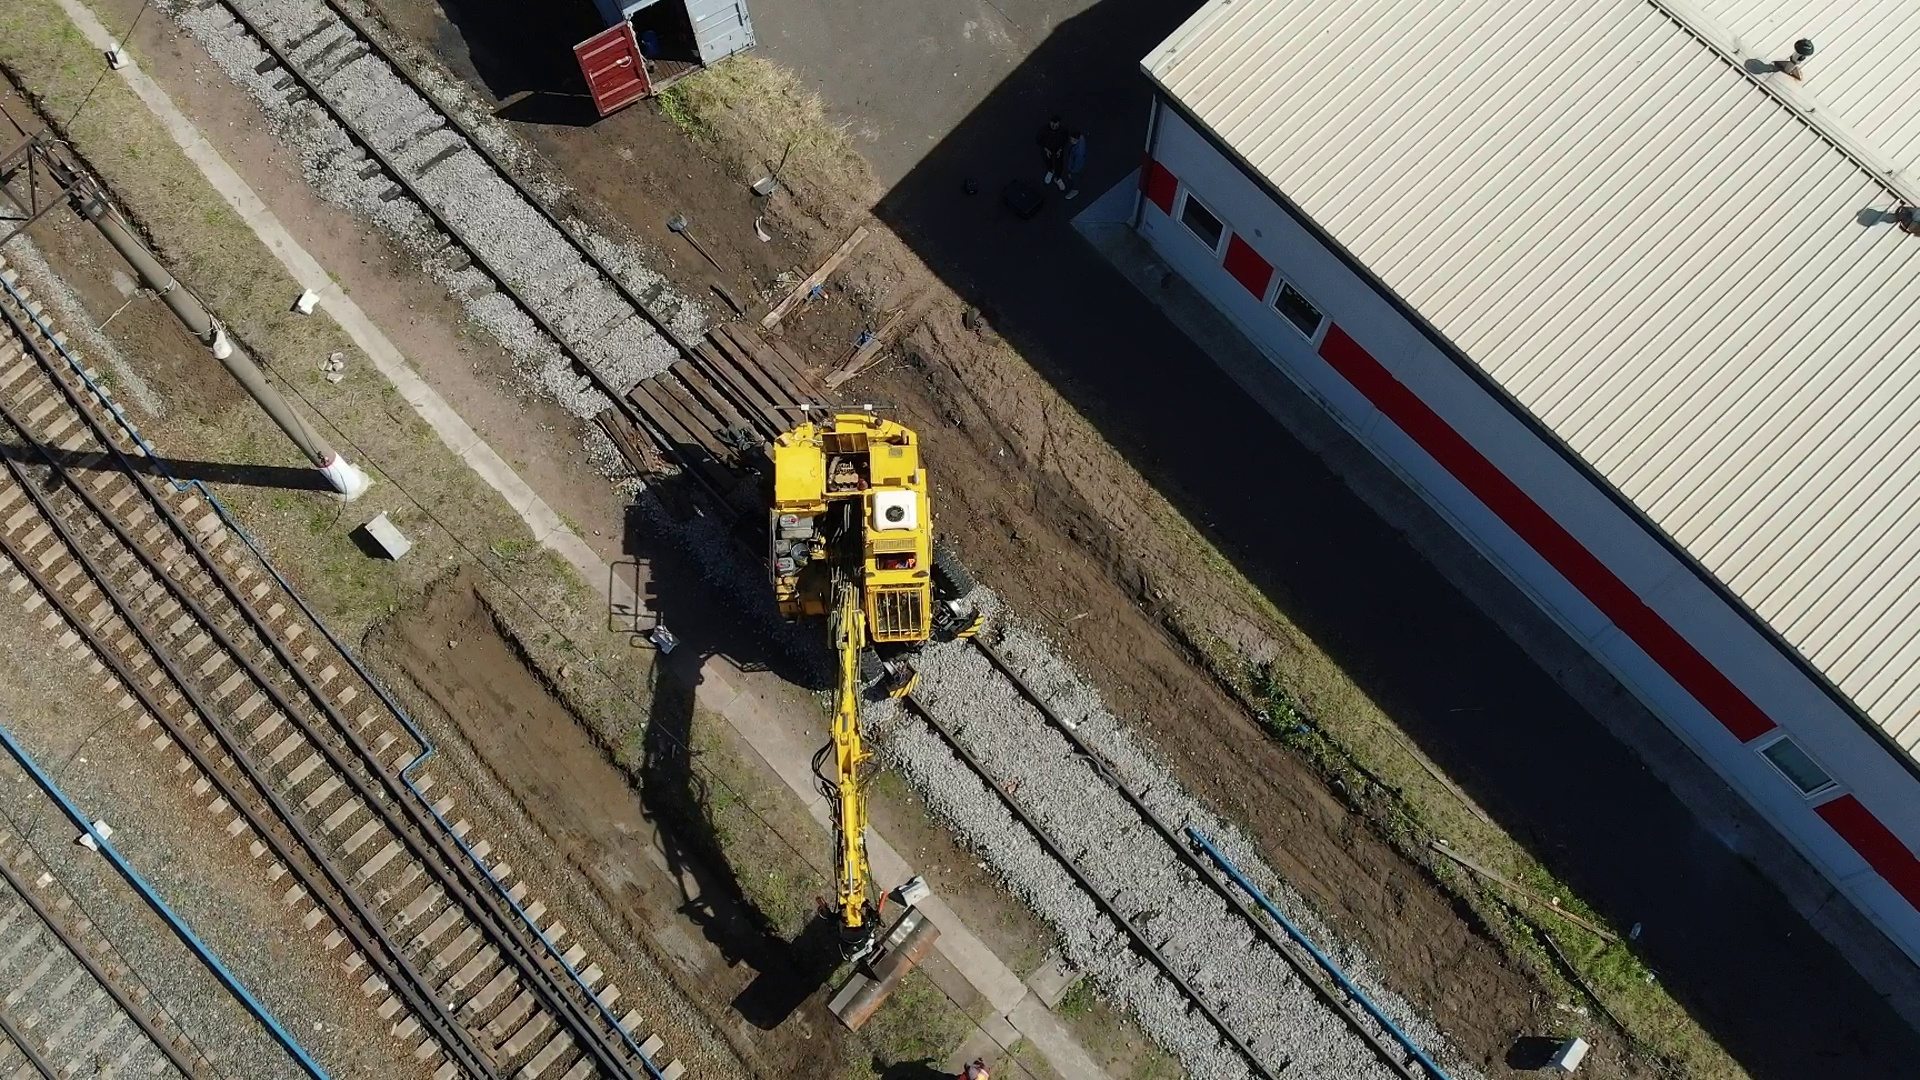kjtv: (764, 415, 975, 674)
